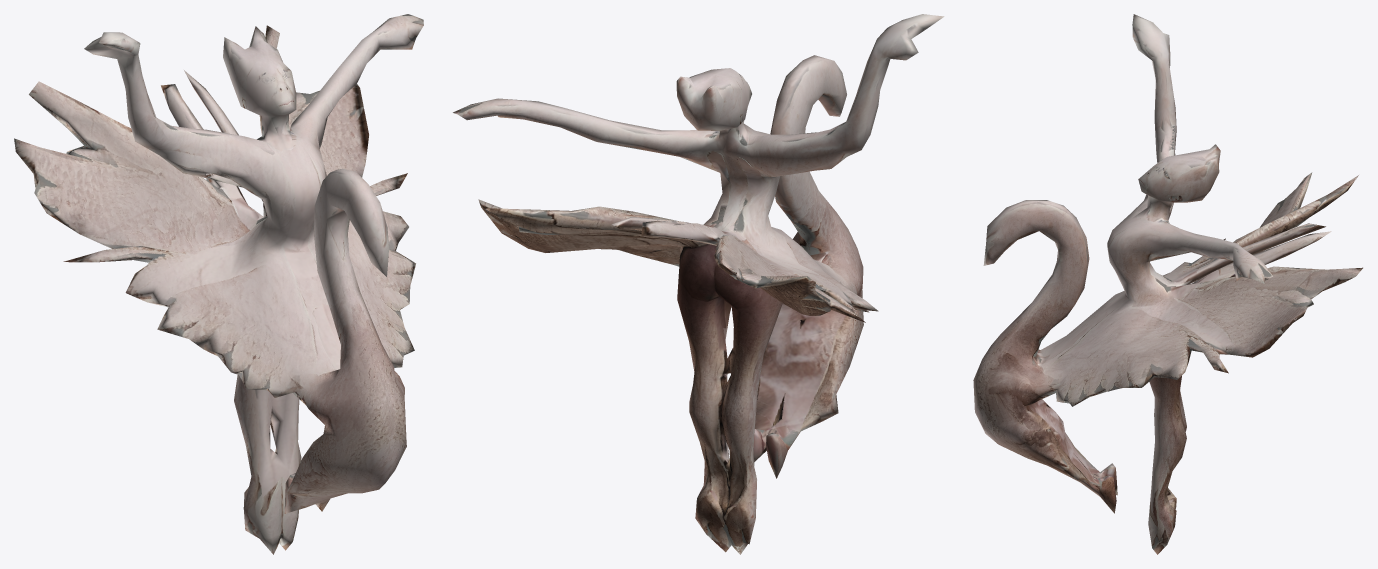
3 renders of one model, left to right at view 1: azimuth 30°, elevation 25°; view 2: azimuth 150°, elevation 25°; view 3: azimuth 270°, elevation 25°, orthographic. The views are drawn at different scales.
Parts seen in each view (by area): view 1: input; view 2: input; view 3: input.
Boxes of the visible parts, x1,y1,x2,y2 form: input: (14, 14, 423, 554); input: (453, 14, 944, 554); input: (973, 14, 1362, 554).
Bounding box in the file's own units: 70.27 × 94.35 × 72.07.
1 material, 1 textured.
